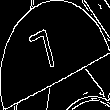L_S: (39, 26, 71, 84)
